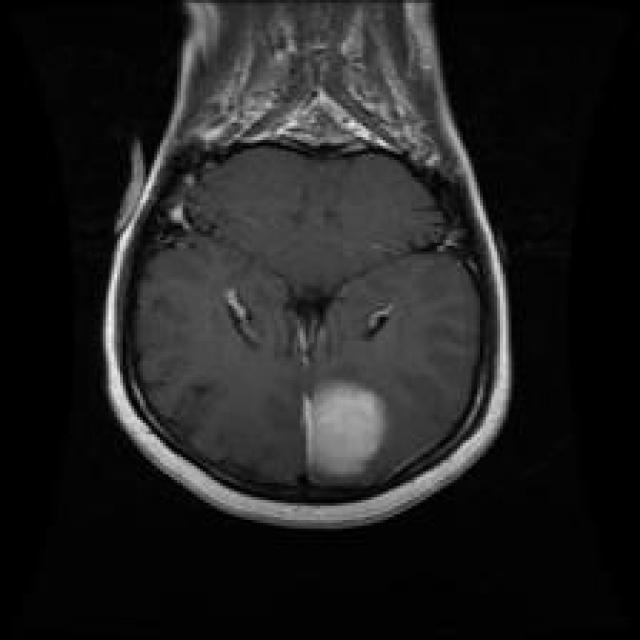meningioma_tumor: (289, 370, 399, 496)
